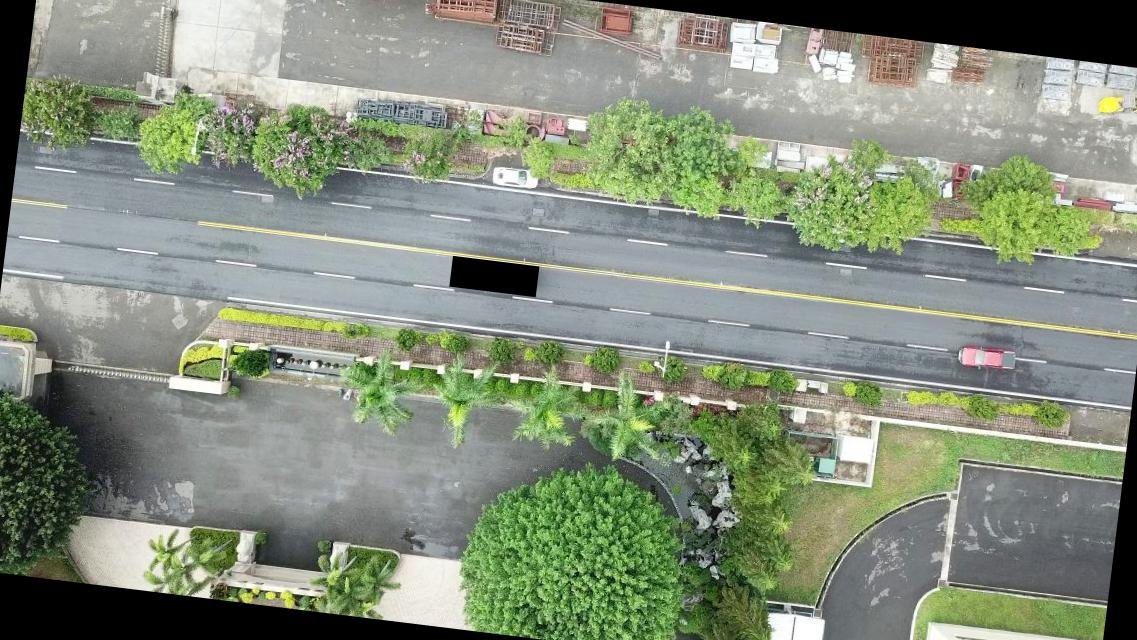vehicle: (957, 342, 1018, 373), (490, 165, 538, 192)
